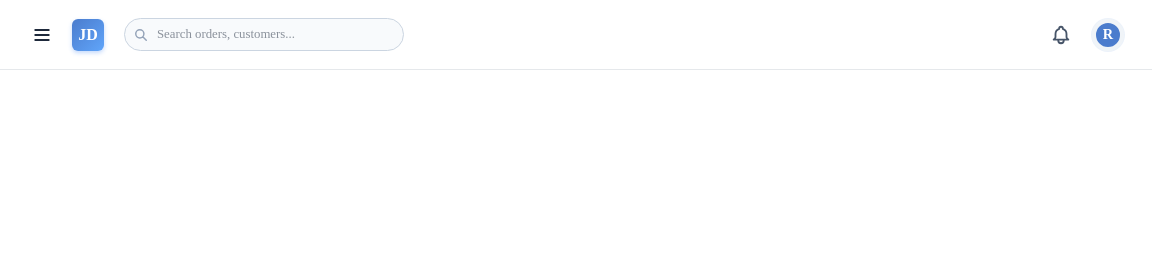
Test case: Navbar Component Unit Tests › should toggle dropdown when clicking profile button twice
The width and height of the screenshot is (1152, 261).
Click the button with test id "user-profile-btn": (1108, 34) [1088,14,1128,54]
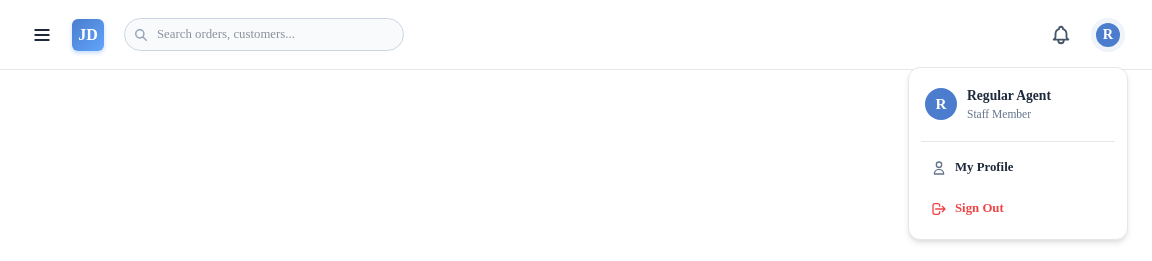
expect the element with test id "profile-dropdown-menu" is shown: met, box [908,66,1128,240]
Click the button with test id "user-profile-btn": (1108, 34) [1088,14,1128,54]
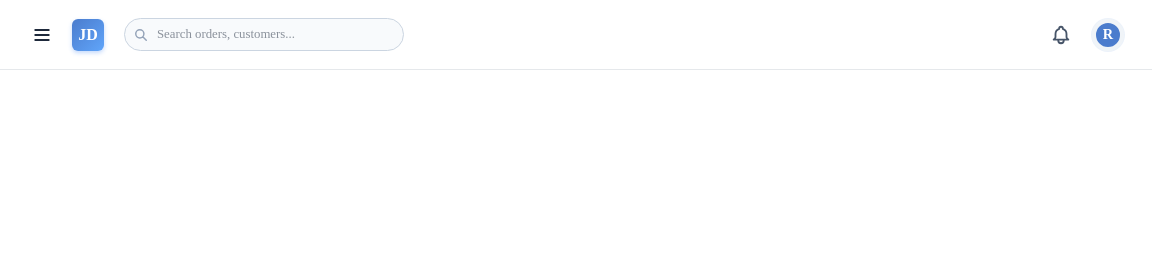
expect the element with test id "profile-dropdown-menu" is gone: met
